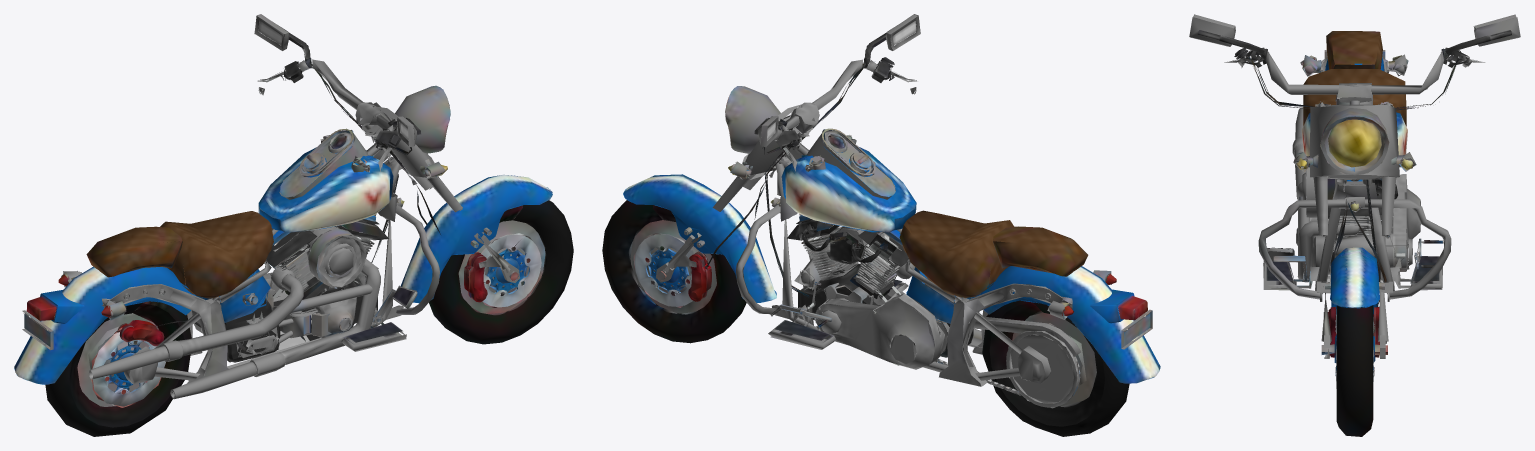
The model's file is veh-cruiser.glb.
3 renders of one model, left to right at view 1: azimuth 30°, elevation 25°; view 2: azimuth 150°, elevation 25°; view 3: azimuth 270°, elevation 25°, orthographic. The views are drawn at different scales.
Parts seen in each view (by area): view 1: p0; view 2: p0; view 3: p0.
Boxes of the visible parts, x1,y1,x2,y2 form: p0: (14, 14, 573, 436); p0: (602, 14, 1160, 436); p0: (1189, 14, 1520, 436).
Size of the model in its own units: 0.184 by 0.0989 by 0.0902.
4 materials, 4 textured.
